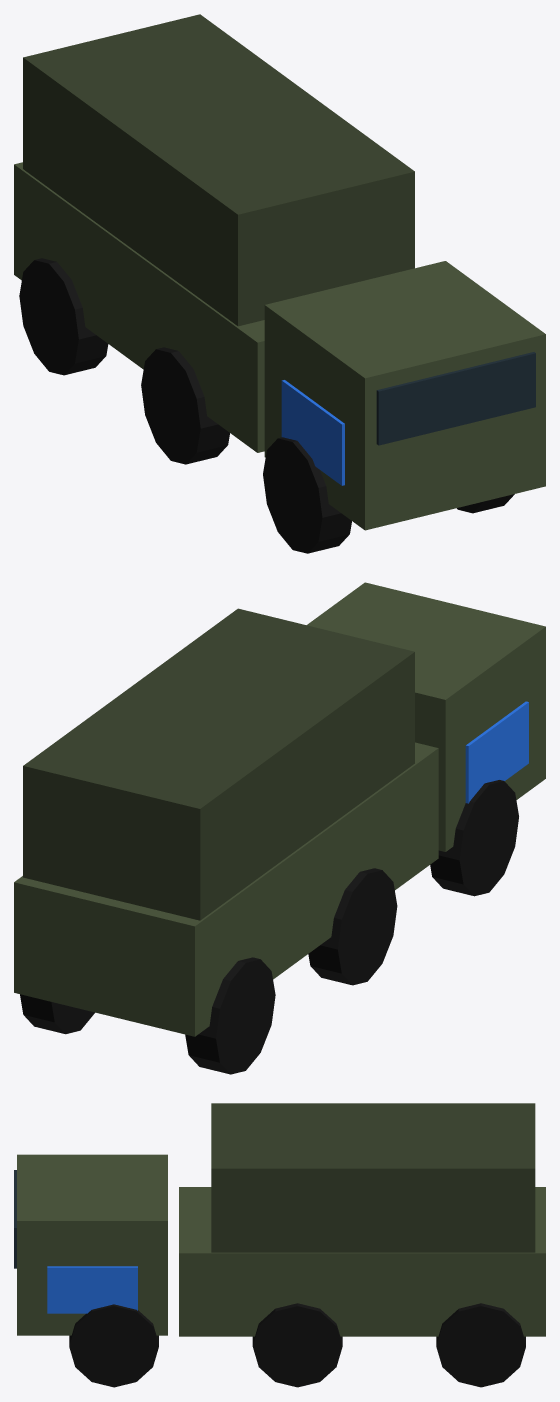
File: kp_logistics_truck.glb
3 views of the same model, one above another, from view 1: azimuth 30°, elevation 25°; view 2: azimuth 150°, elevation 25°; view 3: azimuth 270°, elevation 25° (orthographic). The views are drawn at different scales.
Visible parts, largest first — view 1: armor_box, cab, body, windshield, wheel_l1, wheel_l2, wheel_l0, team_door_l; view 2: armor_box, body, cab, wheel_l2, wheel_l1, wheel_l0, team_door_l, wheel_r2; view 3: armor_box, body, cab, wheel_r1, wheel_r2, wheel_r0, team_door_r.
Boxes of the visible parts, bbox=[...] form: armor_box: bbox=[23, 14, 414, 326]; cab: bbox=[264, 261, 545, 530]; body: bbox=[14, 162, 264, 452]; windshield: bbox=[376, 352, 535, 445]; wheel_l1: bbox=[141, 347, 229, 464]; wheel_l2: bbox=[19, 258, 108, 375]; wheel_l0: bbox=[263, 437, 351, 553]; team_door_l: bbox=[281, 380, 344, 485]; armor_box: bbox=[23, 608, 414, 920]; body: bbox=[14, 742, 438, 1036]; cab: bbox=[307, 582, 545, 851]; wheel_l2: bbox=[185, 957, 275, 1074]; wheel_l1: bbox=[308, 868, 397, 985]; wheel_l0: bbox=[430, 780, 518, 896]; team_door_l: bbox=[465, 701, 528, 803]; wheel_r2: bbox=[20, 994, 94, 1034]; armor_box: bbox=[211, 1103, 535, 1252]; body: bbox=[179, 1187, 545, 1336]; cab: bbox=[17, 1154, 167, 1335]; wheel_r1: bbox=[252, 1303, 342, 1387]; wheel_r2: bbox=[436, 1303, 525, 1387]; wheel_r0: bbox=[69, 1304, 158, 1387]; team_door_r: bbox=[47, 1266, 137, 1313].
Bounding box in the file's own units: 2.6 × 3.61 × 8.08.
